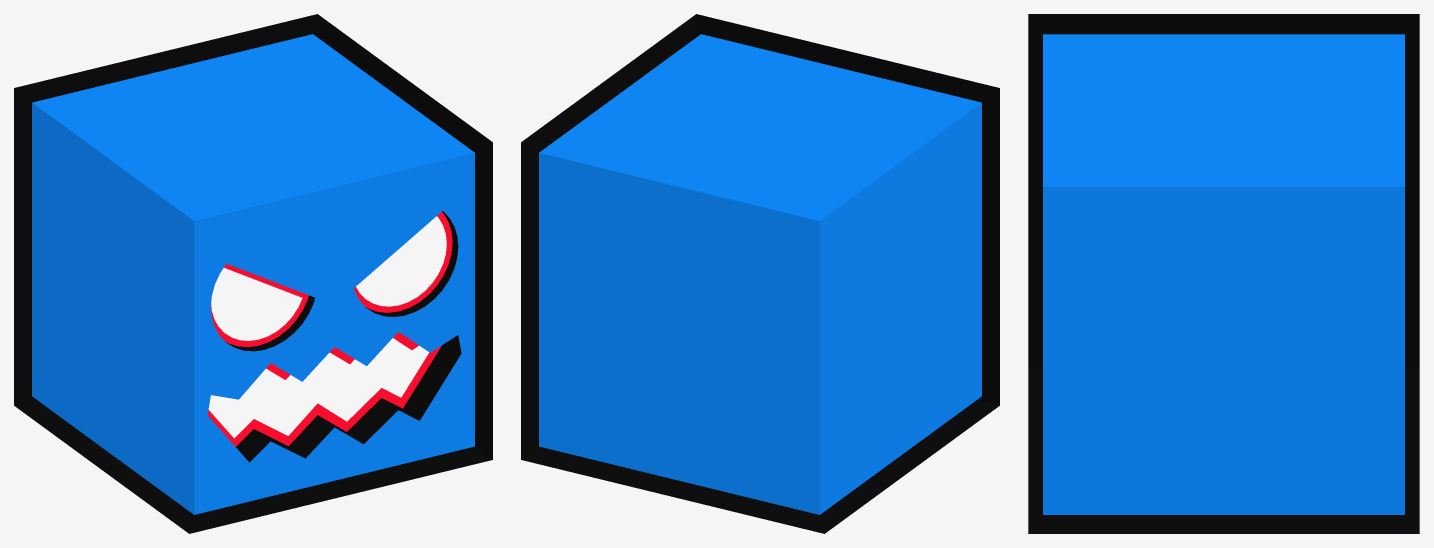
The model's file is cube_145_from_gd_subzero.glb.
3 views of the same model, side by side, from view 1: azimuth 30°, elevation 25°; view 2: azimuth 150°, elevation 25°; view 3: azimuth 270°, elevation 25° (orthographic). The views are drawn at different scales.
Parts seen in each view (by area): view 1: cube_0, outline_1; view 2: cube_0, outline_1; view 3: cube_0, outline_1.
Part boxes in pixels (box(x1,y1,x2,y2)): cube_0: box(32, 34, 474, 514); outline_1: box(14, 14, 492, 533); cube_0: box(539, 34, 981, 514); outline_1: box(521, 14, 999, 533); cube_0: box(1043, 34, 1404, 514); outline_1: box(1028, 14, 1419, 533).
Size of the model in its own units: 1.05 by 1.05 by 1.05.
